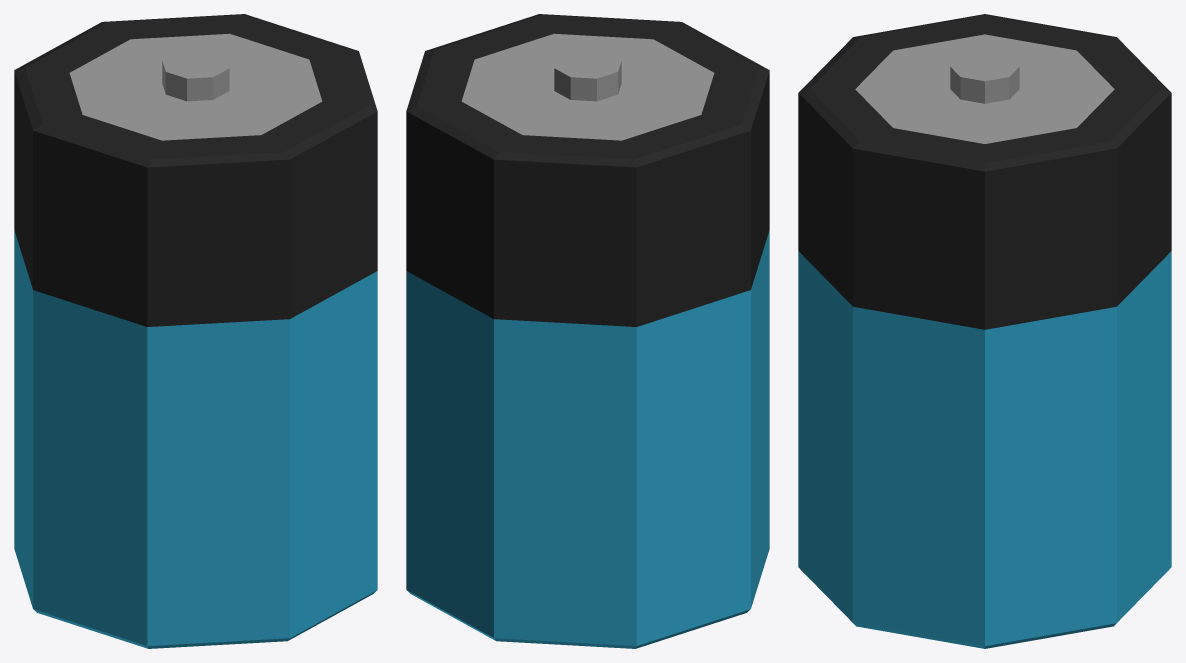
The model's file is Battery_3_mat.fbx.
3 views of the same model, side by side, from view 1: azimuth 30°, elevation 25°; view 2: azimuth 150°, elevation 25°; view 3: azimuth 270°, elevation 25° (orthographic).
Visible parts, largest first — view 1: Battery_3_mat; view 2: Battery_3_mat; view 3: Battery_3_mat.
Part boxes in pixels (left/top/right/bottom): Battery_3_mat: left=14, top=14, right=377, bottom=648; Battery_3_mat: left=406, top=14, right=769, bottom=648; Battery_3_mat: left=798, top=14, right=1171, bottom=648.
Bounding box in the file's own units: 3.18 × 4.75 × 3.18.
